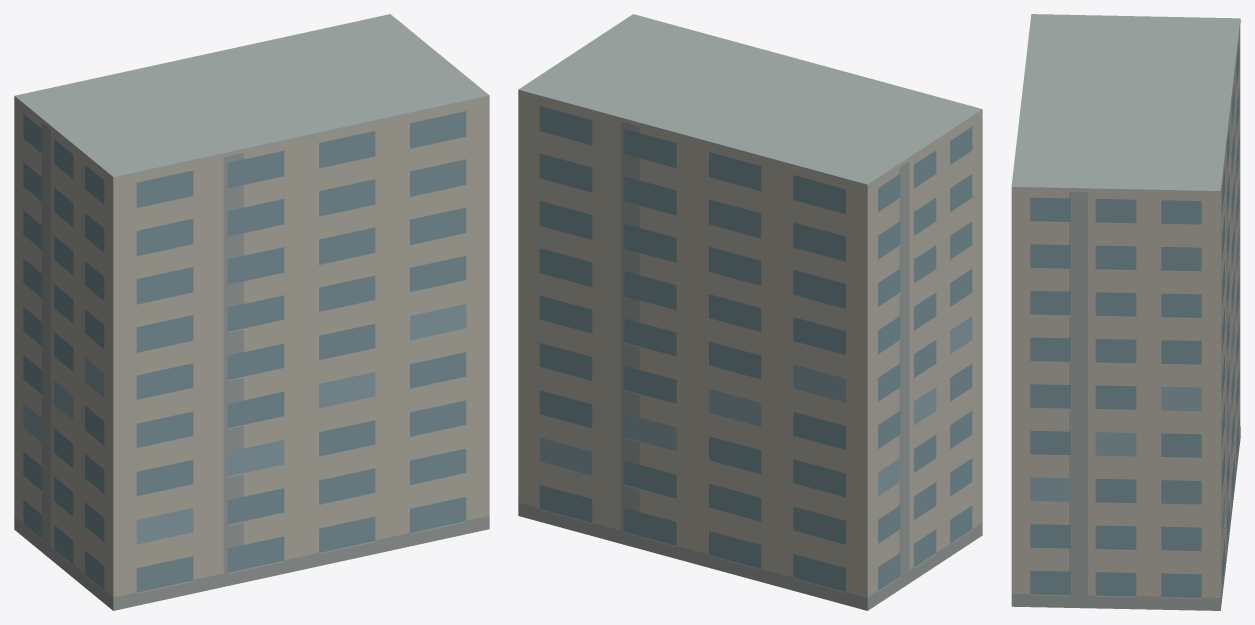
File: residential-873cfdf6-f0ee-430b-8e76-1056fcd32c90.glb
3 renders of one model, left to right at view 1: azimuth 30°, elevation 25°; view 2: azimuth 150°, elevation 25°; view 3: azimuth 270°, elevation 25°, orthographic. The views are drawn at different scales.
Parts seen in each view (by area): view 1: residential-873cfdf6-f0ee-430b-8e76-1056fcd32c90.tmp; view 2: residential-873cfdf6-f0ee-430b-8e76-1056fcd32c90.tmp; view 3: residential-873cfdf6-f0ee-430b-8e76-1056fcd32c90.tmp.
Boxes of the visible parts, box(x1,y1,x2,y2) form: residential-873cfdf6-f0ee-430b-8e76-1056fcd32c90.tmp: box(14, 14, 489, 610); residential-873cfdf6-f0ee-430b-8e76-1056fcd32c90.tmp: box(518, 14, 982, 610); residential-873cfdf6-f0ee-430b-8e76-1056fcd32c90.tmp: box(1011, 14, 1240, 610).
Bounding box in the file's own units: 22.62 × 25 × 12.37.
